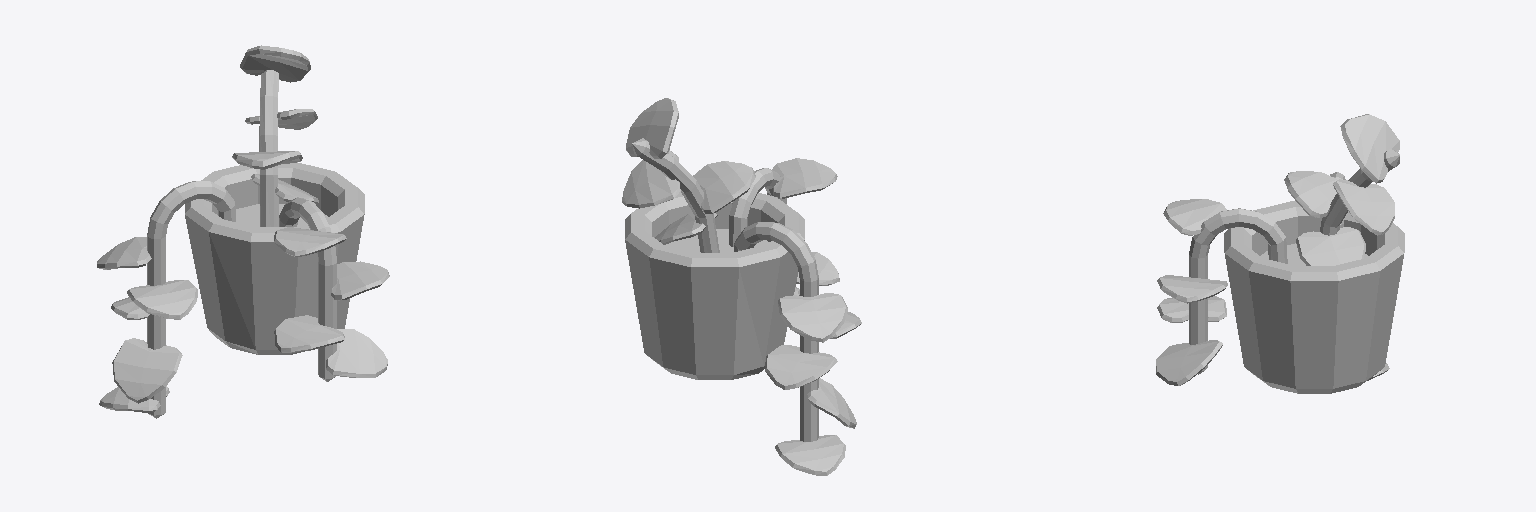
File: pothos_plant_small_potted.obj
3 renders of one model, left to right at view 1: azimuth 30°, elevation 25°; view 2: azimuth 150°, elevation 25°; view 3: azimuth 270°, elevation 25°, orthographic.
Parts seen in each view (by area): view 1: pothos_plant_small_potted; view 2: pothos_plant_small_potted; view 3: pothos_plant_small_potted.
Boxes of the visible parts, x1=… form: pothos_plant_small_potted: x1=97, y1=45, x2=389, y2=418; pothos_plant_small_potted: x1=622, y1=98, x2=861, y2=475; pothos_plant_small_potted: x1=1156, y1=114, x2=1404, y2=393.
Size of the model in its own units: 0.7209 by 1.01 by 0.6833.